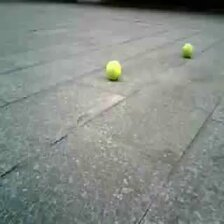tennis: (106, 59, 120, 79), (182, 43, 192, 56)
